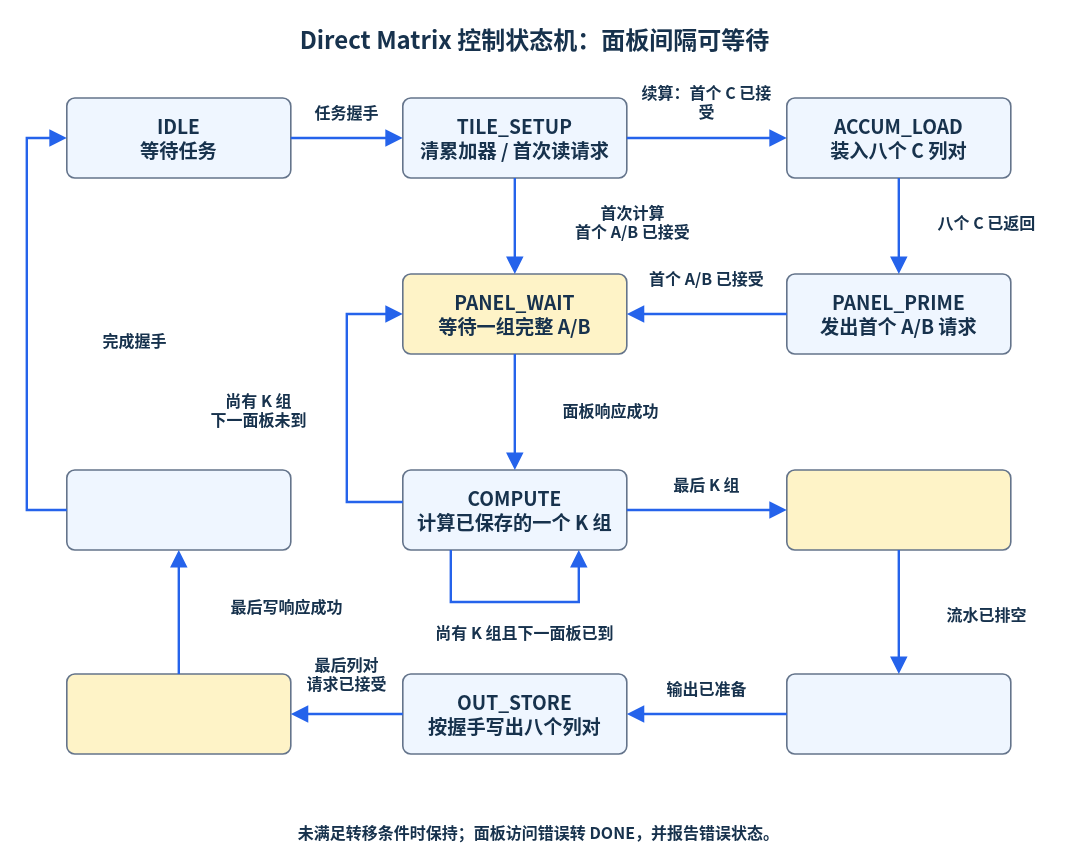
The diagram is 1073 pixels wide and 867 high, and some of its shapes have lost their labels. The shapes that lost their labels are listed below. From the top down, each one's centre as x and y in pixels, then its label:
At point (178, 509): "DONE 保持完成消息".
At point (898, 509): "COMPUTE_DRAIN 等待乘积累加完成".
At point (178, 713): "OUT_WAIT 等待最后写响应".
At point (898, 713): "OUT_PREP 形成首个输出列对".
